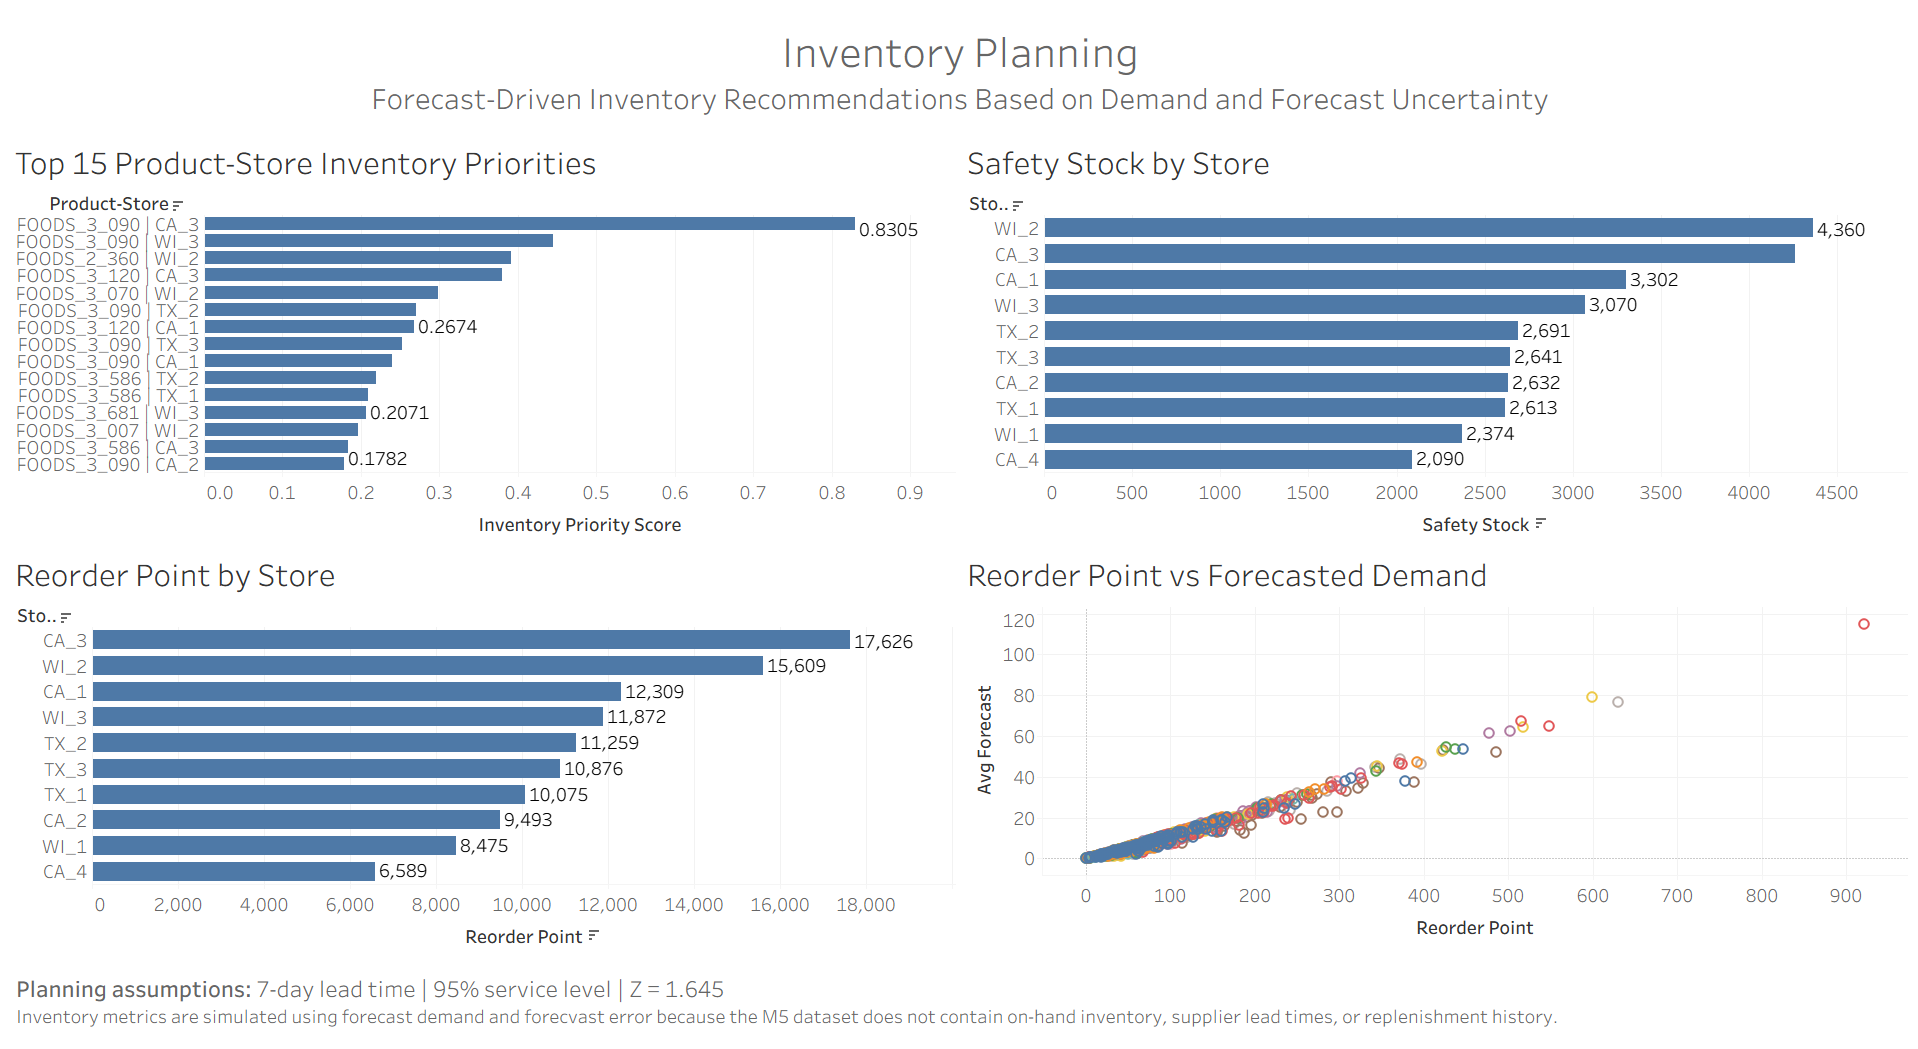

This screenshot's page, from the dashboard's own definition file:
{"tool":"tableau","page":{"name":"Inventory Planning","canvas":[1000,1000],"units":"permille","ordinal":1},"visuals":[{"type":"text","box":[3.6,6,992.9,120.2]},{"type":"worksheet","title":"Inventory Priority","mark":"Automatic","rows":["Calculation_0694106216730627"],"cols":["inventory_priority_score"],"box":[3.6,126.2,496.4,394.3]},{"type":"worksheet","title":"Safety Stock by Store","mark":"Automatic","rows":["store_id"],"cols":["safety_stock"],"box":[500,126.2,496.4,394.3]},{"type":"worksheet","title":"Reorder Point by Store","mark":"Automatic","rows":["store_id"],"cols":["reorder_point"],"box":[3.6,520.5,496.4,394.4]},{"type":"worksheet","title":"Reorder Point vs Forecasted Demand","mark":"Automatic","rows":["avg_forecast"],"cols":["reorder_point"],"box":[500,520.5,496.4,394.4]},{"type":"text","box":[3.6,914.9,992.9,79.1]}]}

Visuals, with their boxes on the dashboard's canvas, which has no fixed pixel size, in thousandths of its width and height (x1, y1, x2, y2). These are canvas units, not pixel positions in the 1918x1049 screenshot, which may show the page scaled, cropped or inside an application window:
text: left=4, top=6, right=996, bottom=126
"Inventory Priority" worksheet: left=4, top=126, right=500, bottom=520
"Safety Stock by Store" worksheet: left=500, top=126, right=996, bottom=520
"Reorder Point by Store" worksheet: left=4, top=520, right=500, bottom=915
"Reorder Point vs Forecasted Demand" worksheet: left=500, top=520, right=996, bottom=915
text: left=4, top=915, right=996, bottom=994
